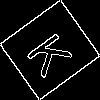K: (24, 25, 82, 80)
